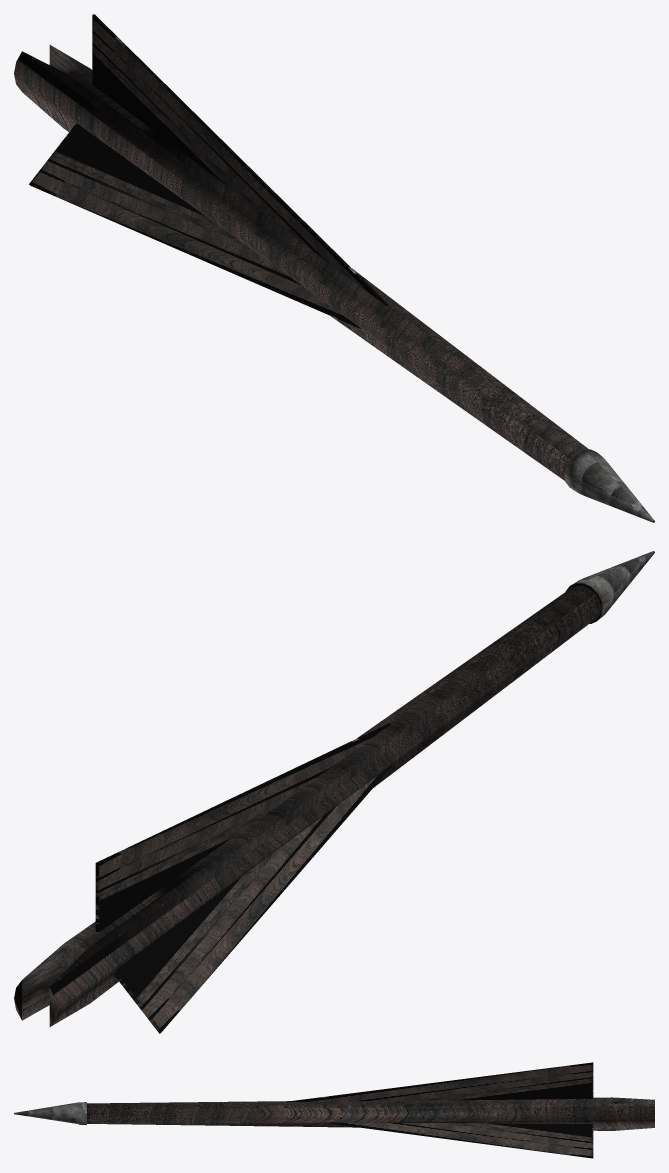
Rendered from arrow.obj.
3 renders of one model, top to bottom at view 1: azimuth 30°, elevation 25°; view 2: azimuth 150°, elevation 25°; view 3: azimuth 270°, elevation 25°, orthographic. The views are drawn at different scales.
Parts seen in each view (by area): view 1: Cylinder; view 2: Cylinder; view 3: Cylinder.
Part boxes in pixels (x1,y1,x2,y2): Cylinder: (14,14,654,522); Cylinder: (14,551,654,1033); Cylinder: (14,1062,654,1158).
Size of the model in its own units: 0.2316 by 0.2732 by 1.97.
1 material, 1 textured.
